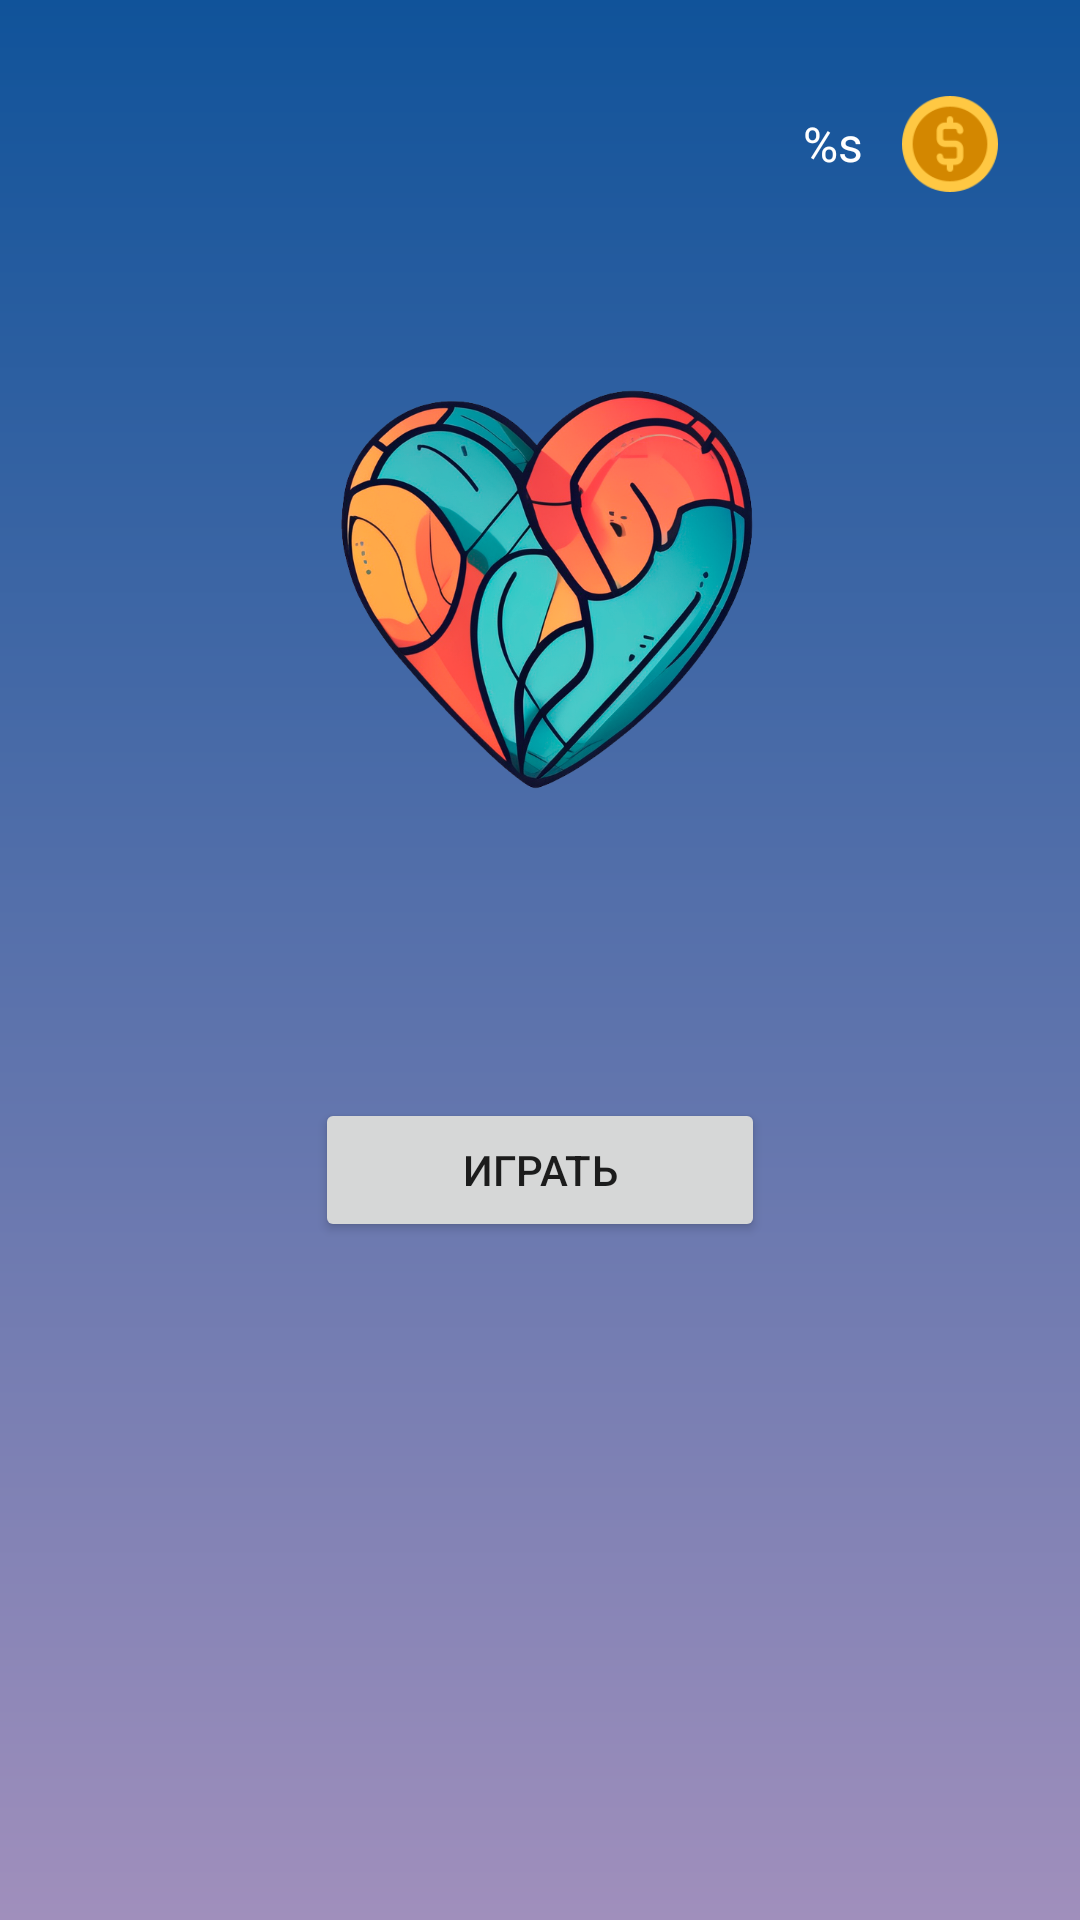

Icon bounding boxes for this 1080*1920 phone screenshot, format (x1=x1, y1=y1, x2=x2, y2=y2):
Coins: (x1=902, y1=96, x2=998, y2=192)
